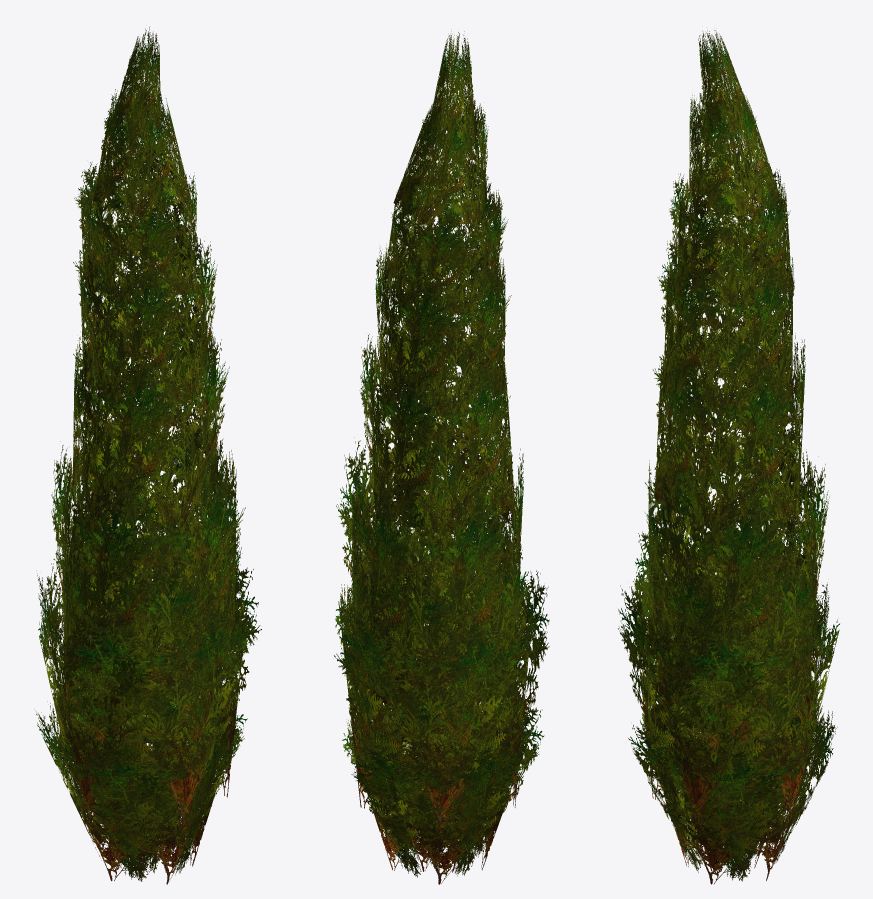
File: tree_cypress_xlarge_branches.glb
3 views of the same model, side by side, from view 1: azimuth 30°, elevation 25°; view 2: azimuth 150°, elevation 25°; view 3: azimuth 270°, elevation 25° (orthographic). The views are drawn at different scales.
Visible parts, largest first — view 1: tree_cypress_xlarge_branches; view 2: tree_cypress_xlarge_branches; view 3: tree_cypress_xlarge_branches.
Part boxes in pixels (bbox=[...]): tree_cypress_xlarge_branches: bbox=[36, 27, 261, 884]; tree_cypress_xlarge_branches: bbox=[334, 31, 549, 884]; tree_cypress_xlarge_branches: bbox=[618, 30, 839, 884].
Bounding box in the file's own units: 4.26 × 15.53 × 4.34.
1 material, 1 textured.
